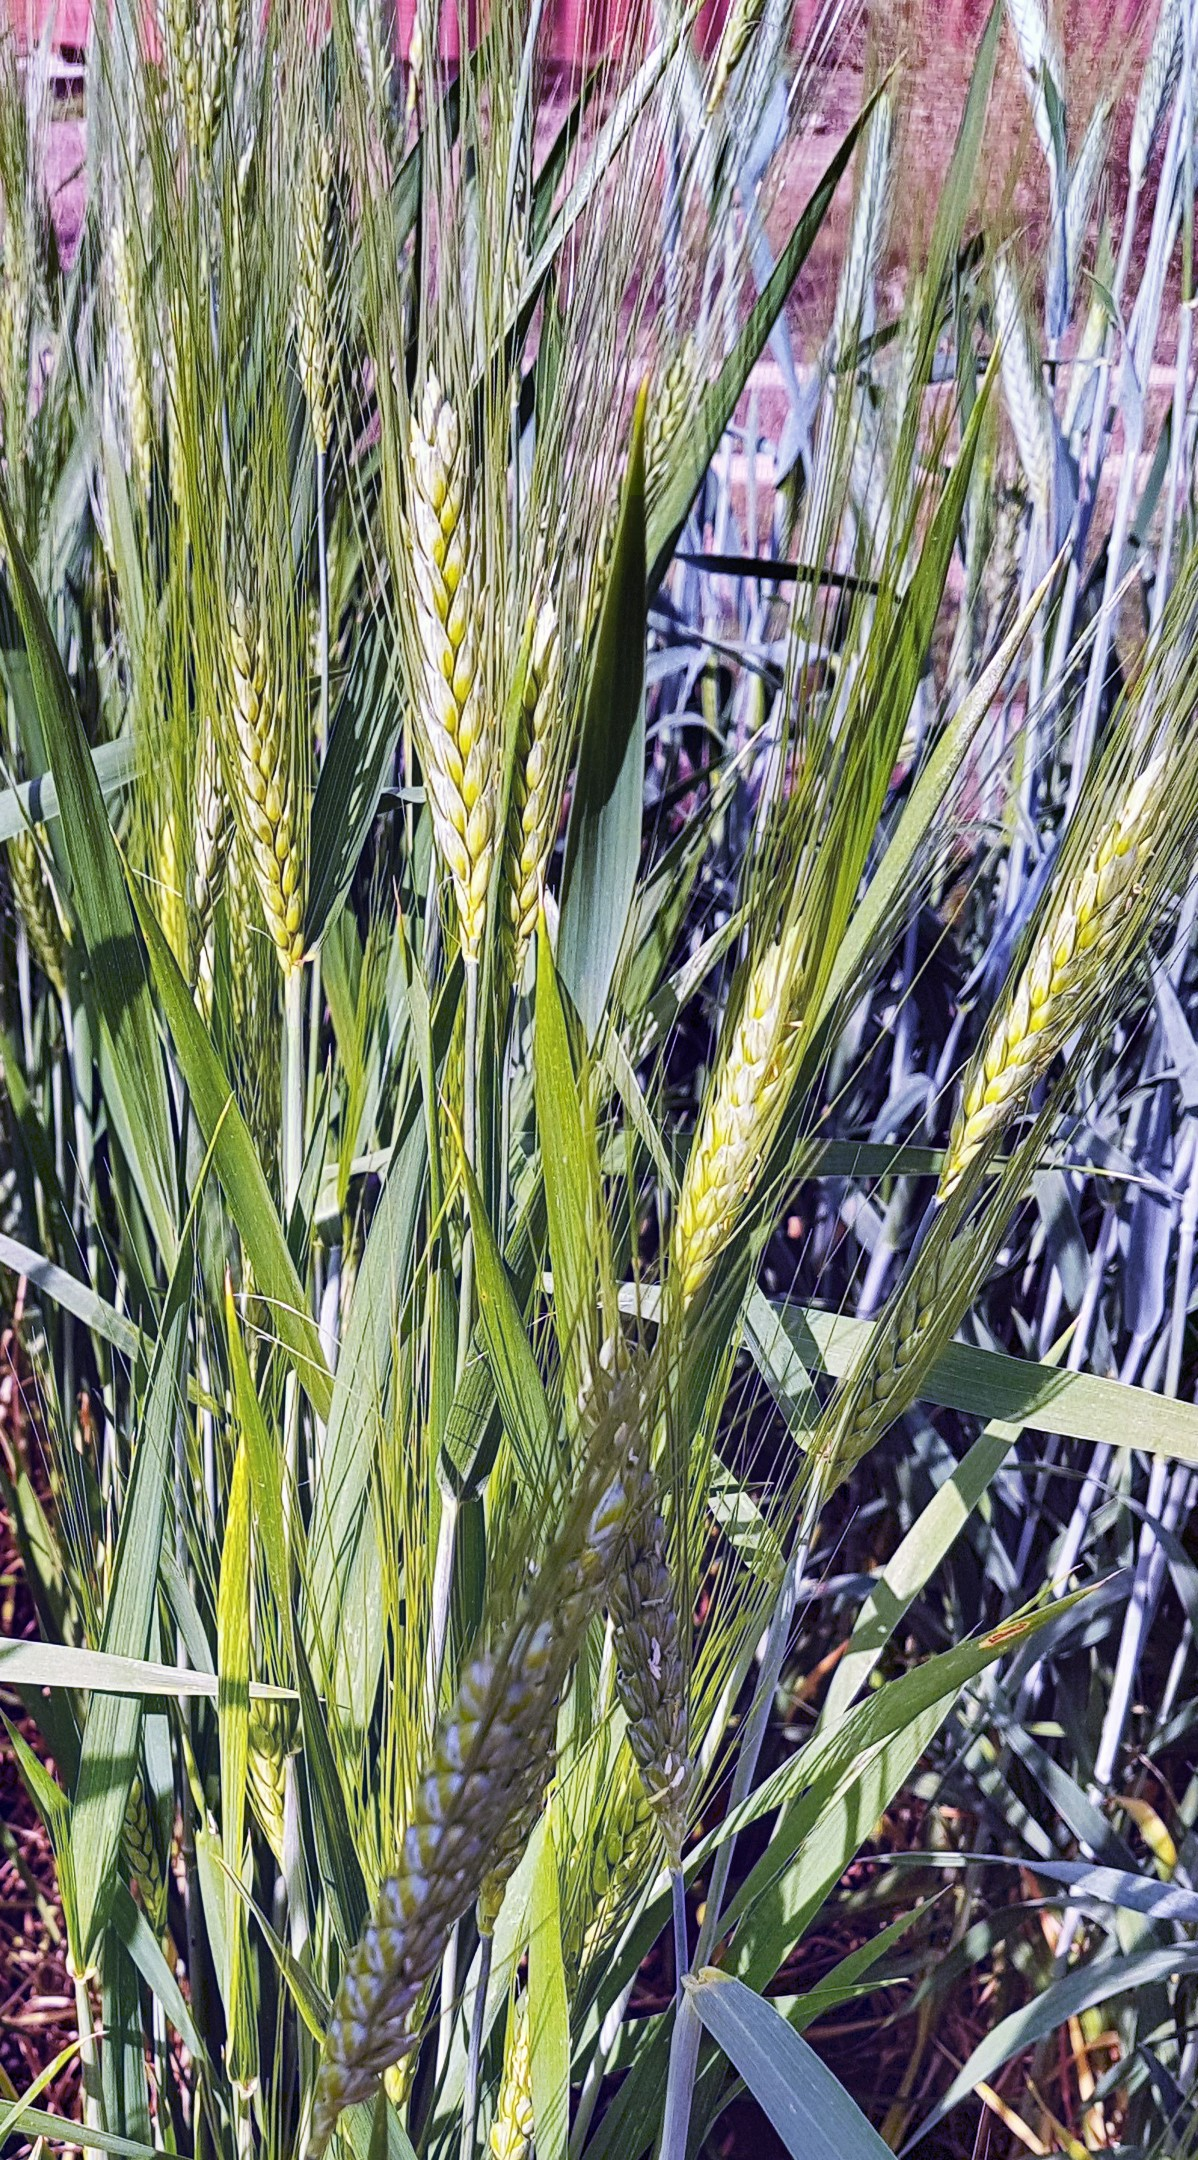Healthy Wheat: (214, 378, 558, 997), (940, 742, 1198, 1146)
